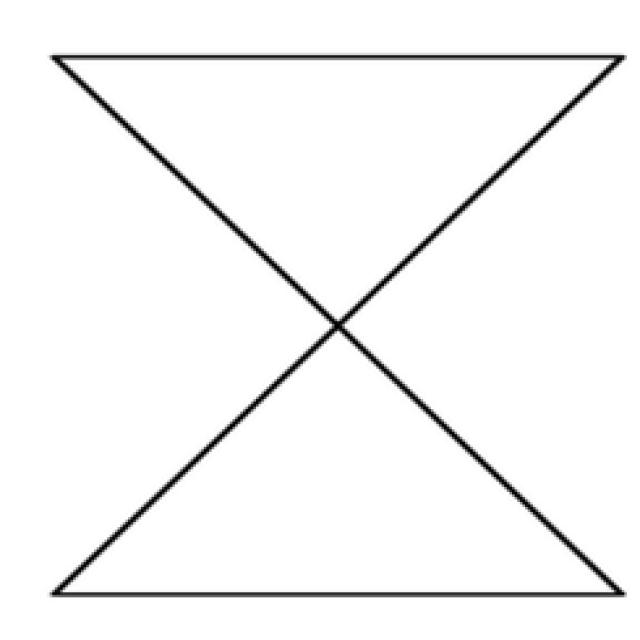Gate valve: (54, 57, 624, 596)
